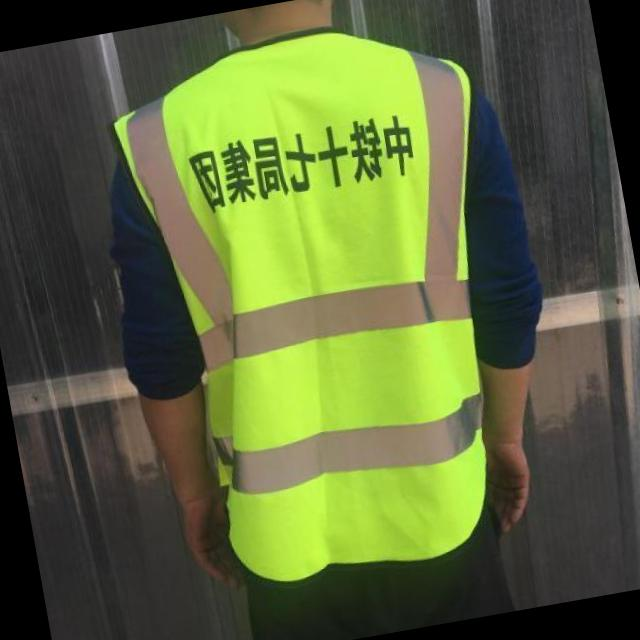no-gloves: (85, 316, 263, 614), (431, 256, 592, 562)
vest: (103, 8, 552, 605)
